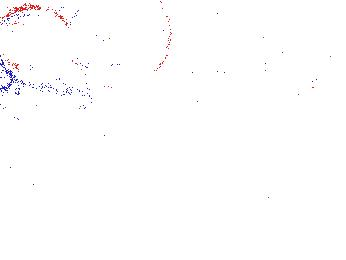moon jellyfish: (74, 1, 172, 89), (215, 1, 294, 86), (1, 6, 76, 90)
